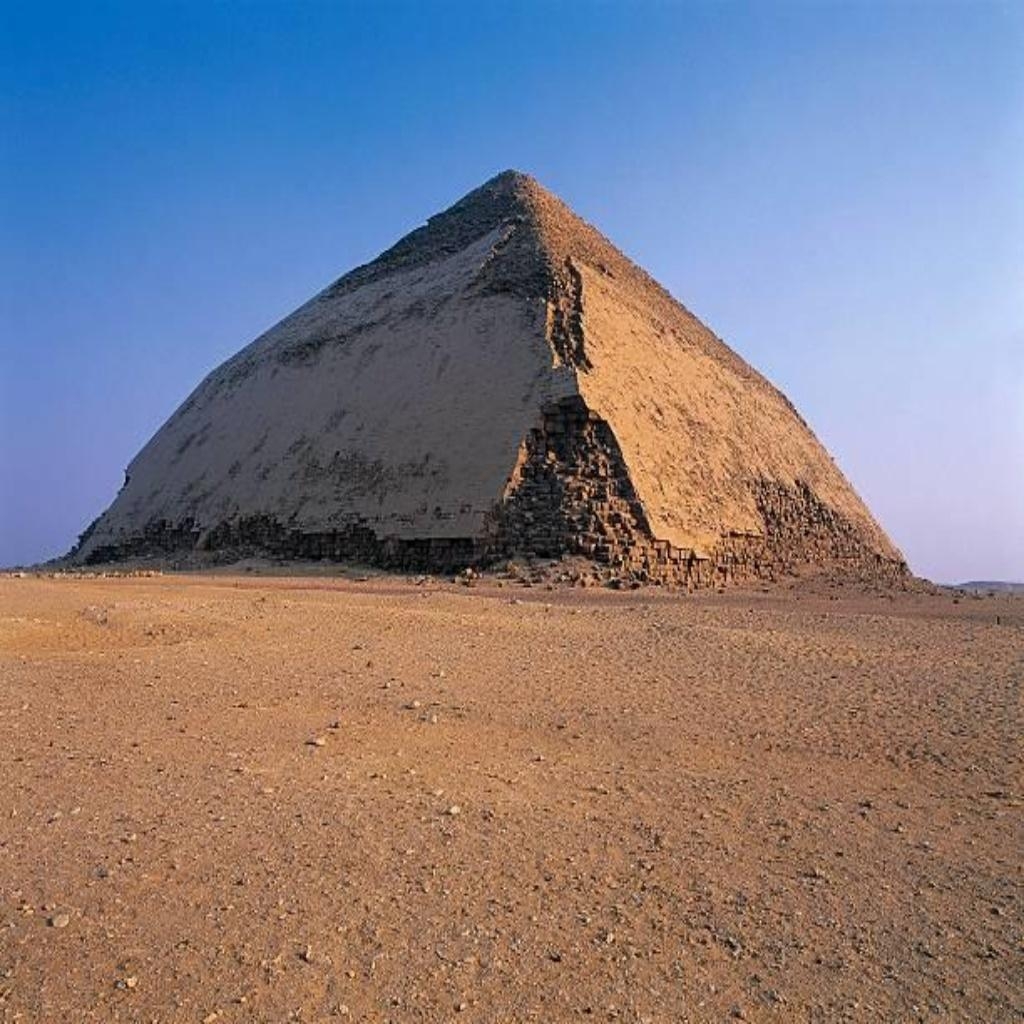Bent Pyramid of King Sneferu: (57, 164, 915, 590)
